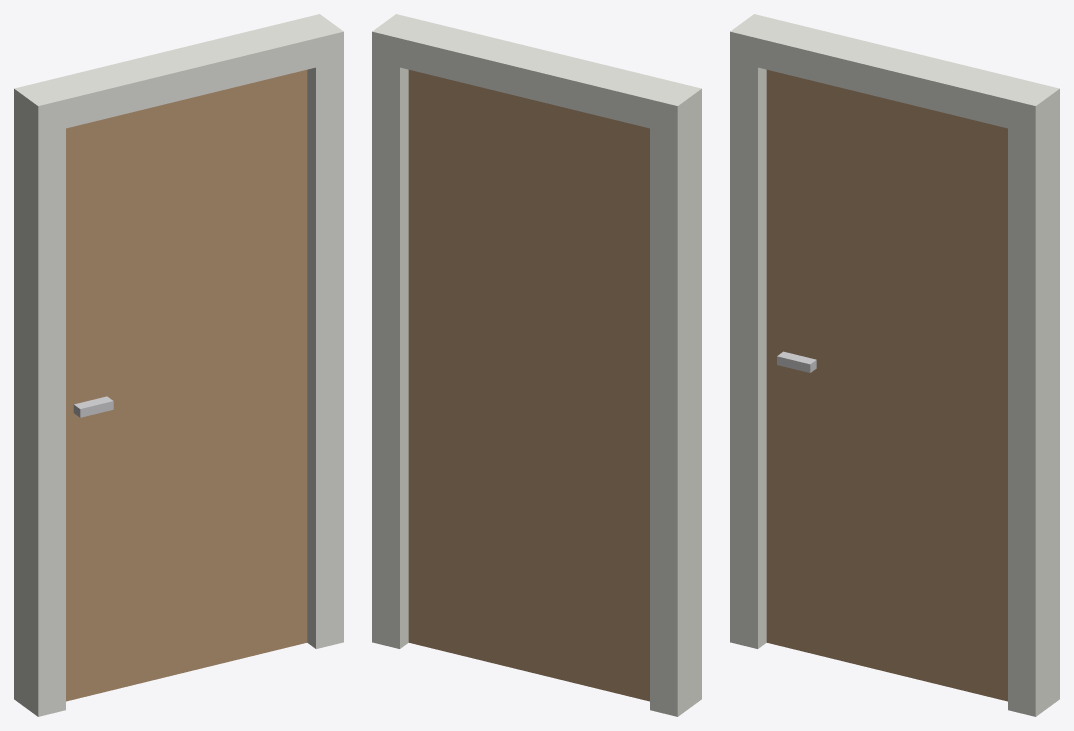
Rendered from door_mirrored.gltf.
3 renders of one model, left to right at view 1: azimuth 30°, elevation 25°; view 2: azimuth 150°, elevation 25°; view 3: azimuth 330°, elevation 25°, orthographic.
Parts seen in each view (by area): view 1: DoorPanel, DoorFrame, DoorHandle; view 2: DoorPanel, DoorFrame; view 3: DoorPanel, DoorFrame, DoorHandle.
Boxes of the visible parts, x1=… form: DoorPanel: x1=66, y1=69, x2=307, y2=701; DoorFrame: x1=14, y1=14, x2=343, y2=716; DoorHandle: x1=73, y1=396, x2=113, y2=417; DoorPanel: x1=408, y1=69, x2=649, y2=701; DoorFrame: x1=372, y1=14, x2=701, y2=716; DoorPanel: x1=766, y1=69, x2=1007, y2=701; DoorFrame: x1=730, y1=14, x2=1059, y2=716; DoorHandle: x1=777, y1=351, x2=816, y2=372.
Size of the model in its own units: 1.1 by 2.1 by 0.15.
